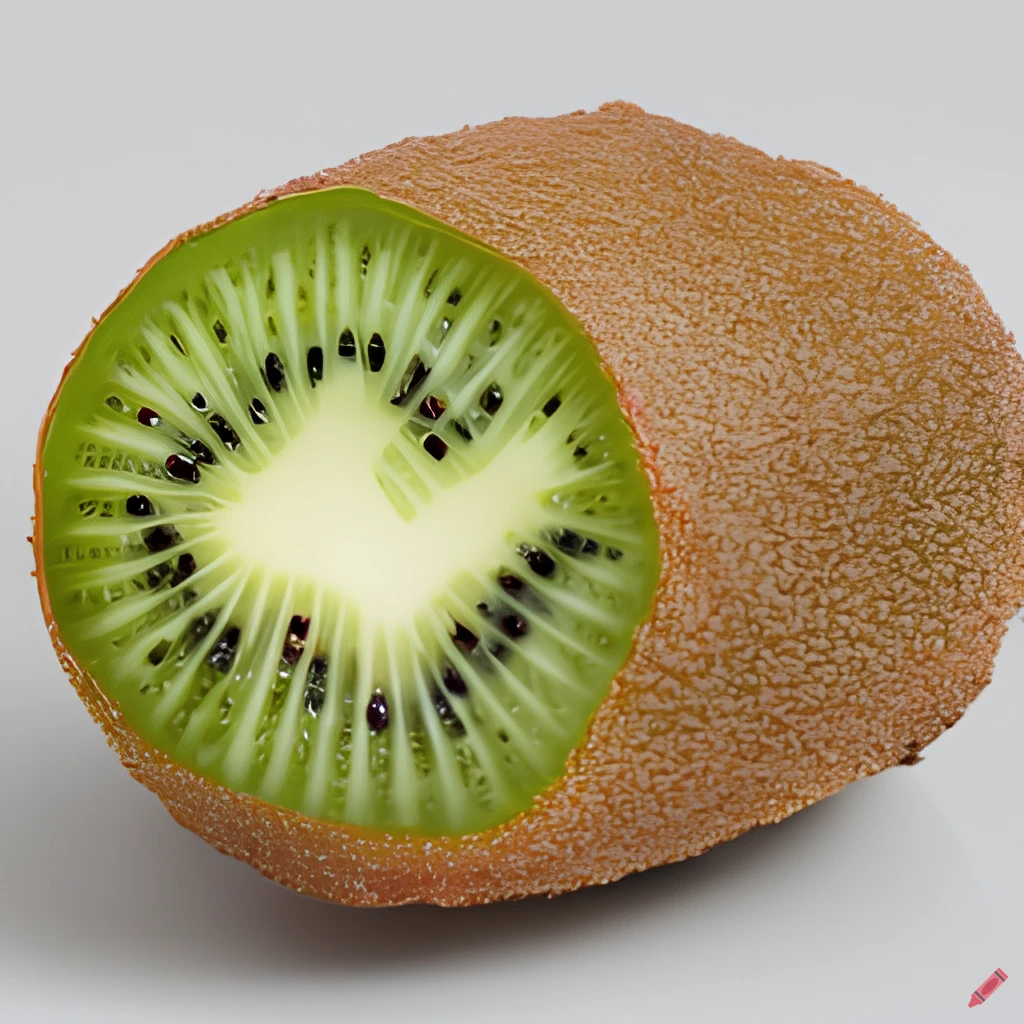Kiwi: (27, 91, 1024, 910)
